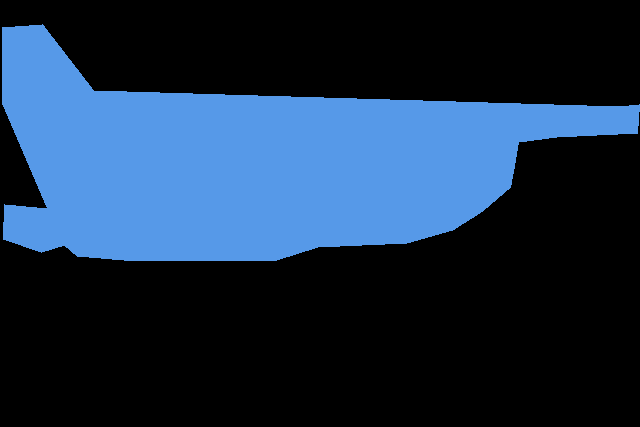Airplane: (2, 24, 639, 260)
